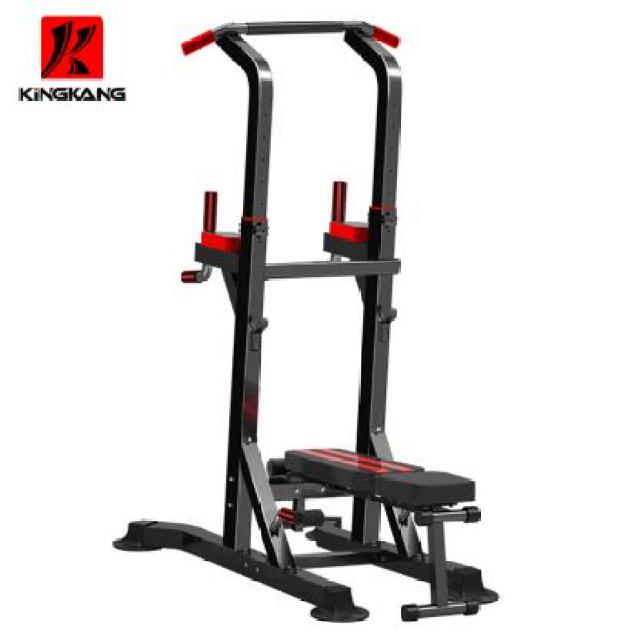chinning dipping: (123, 17, 502, 623)
